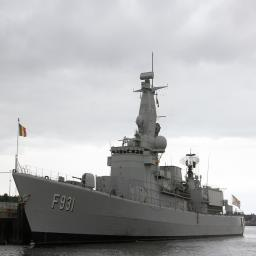Fragata: (13, 51, 246, 249)
